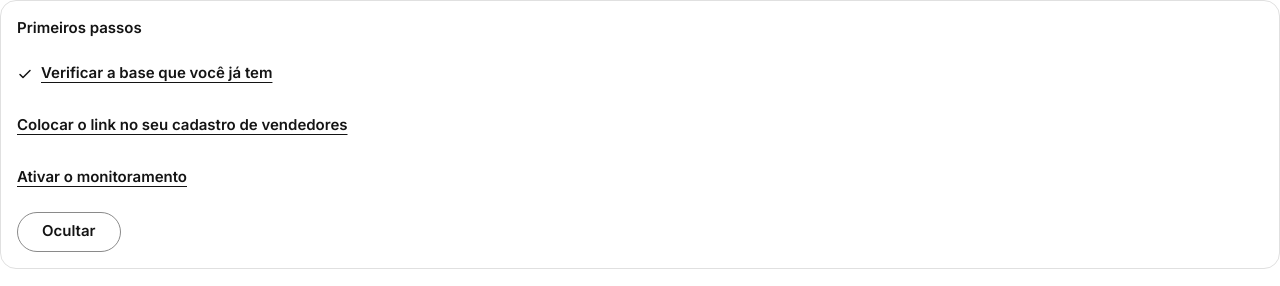
Test case: FirstSteps (T133, AC 53) › a failure shows error.network inline and the card stays
The width and height of the screenshot is (1280, 286).
Click the button "Ocultar".
click(69, 232)  # box [17, 212, 120, 252]
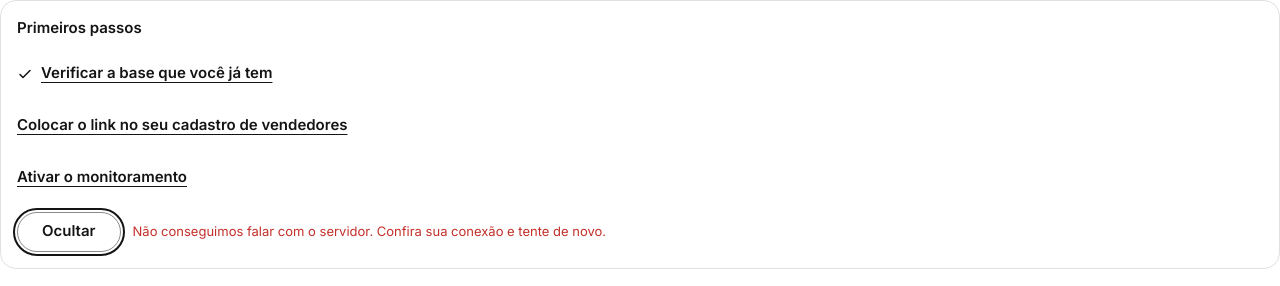
Check: the message reads "Não conseguimos falar com o servidor. Confira sua conexão e tente de novo.", box [132, 223, 606, 239]
